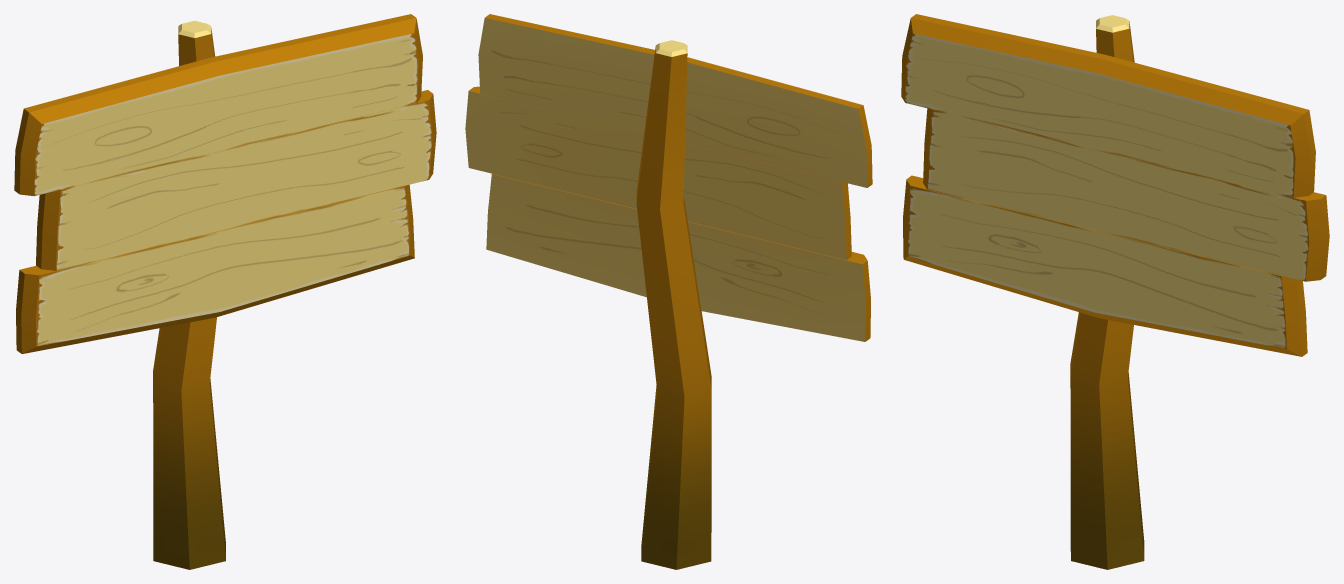
The model's file is kanban 1.fbx.
The picture shows the model from 3 angles, left to right: view 1: azimuth 30°, elevation 25°; view 2: azimuth 150°, elevation 25°; view 3: azimuth 330°, elevation 25°; orthographic projection. The views are drawn at different scales.
Visible parts, largest first — view 1: pCube3, pCube5, pCube4, pCylinder4; view 2: pCube3, pCylinder4, pCube5, pCube4; view 3: pCube3, pCube5, pCube4, pCylinder4.
Part boxes in pixels (box(x1,y1,x2,y2)): pCube3: box(14, 14, 422, 196); pCube5: box(16, 184, 414, 353); pCube4: box(36, 90, 436, 270); pCylinder4: box(153, 20, 225, 569); pCube3: box(478, 14, 872, 187); pCylinder4: box(636, 40, 711, 569); pCube5: box(486, 173, 870, 341); pCube4: box(465, 86, 851, 259); pCube3: box(901, 14, 1315, 197); pCube5: box(903, 175, 1307, 356); pCube4: box(923, 108, 1329, 281); pCylinder4: box(1070, 15, 1144, 569).
Bounding box in the file's own units: 1.26 × 1.52 × 0.2112.
